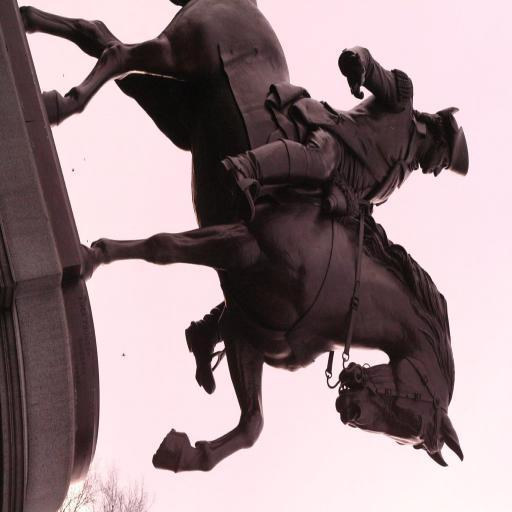horse: (17, 0, 467, 476)
